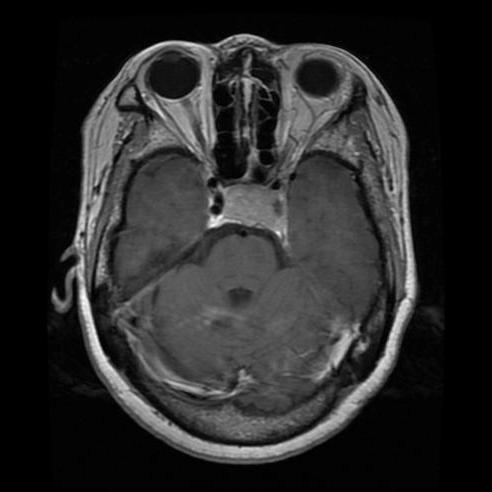Tumour-Pituitary: (205, 182, 291, 238)
